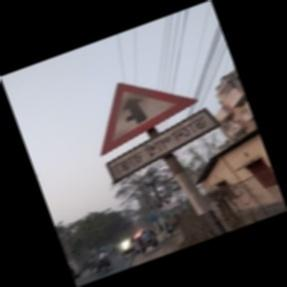Side-road-right: (96, 78, 219, 182)
